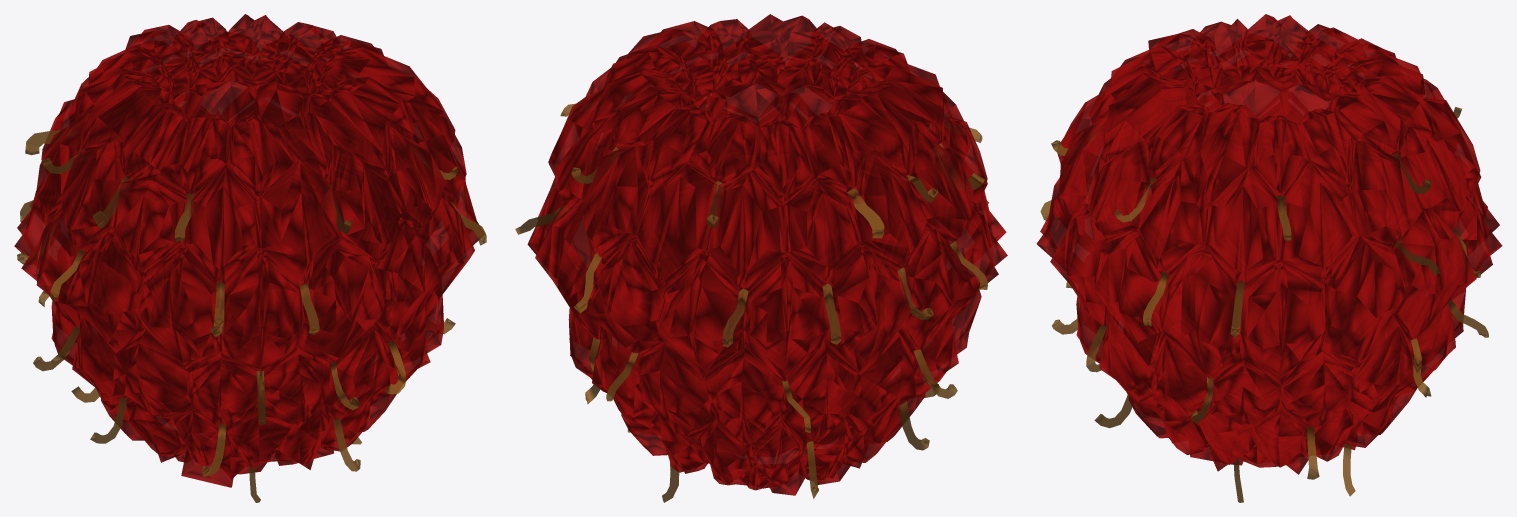
The model's file is rasunitytest.fbx.
3 renders of one model, left to right at view 1: azimuth 30°, elevation 25°; view 2: azimuth 150°, elevation 25°; view 3: azimuth 270°, elevation 25°, orthographic. The views are drawn at different scales.
Parts seen in each view (by area): view 1: rapsberry_.rapsber214; view 2: rapsberry_.rapsber214; view 3: rapsberry_.rapsber214.
Part boxes in pixels (bbox=[...]): rapsberry_.rapsber214: bbox=[14, 14, 486, 502]; rapsberry_.rapsber214: bbox=[515, 14, 1007, 502]; rapsberry_.rapsber214: bbox=[1036, 14, 1502, 502].
Size of the model in its own units: 23.45 by 22.32 by 23.32.
